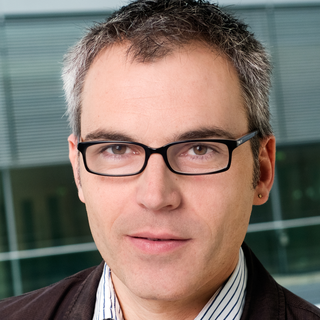eye: (177, 142, 224, 163), (96, 142, 143, 161)
